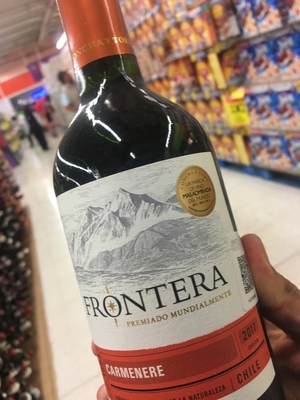frontera cabernet sauvignon: (44, 33, 284, 400)
